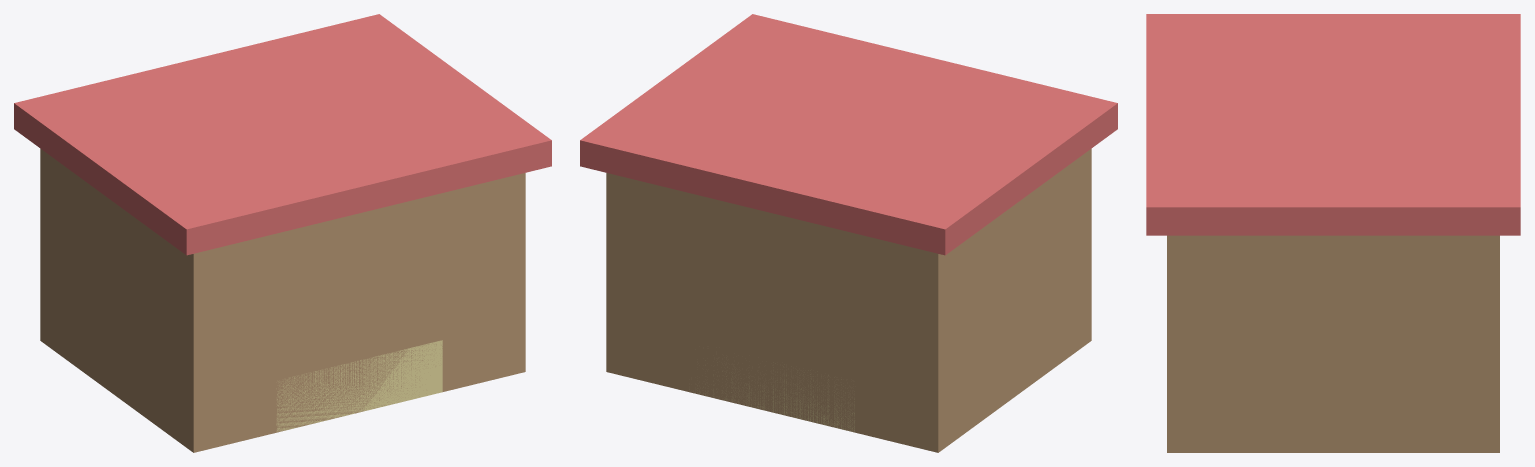
Rendered from Prop_Live_AMF_GoatShelter_V6.glb.
The picture shows the model from 3 angles, left to right: view 1: azimuth 30°, elevation 25°; view 2: azimuth 150°, elevation 25°; view 3: azimuth 270°, elevation 25°; orthographic projection. The views are drawn at different scales.
Visible parts, largest first — view 1: Prop_Live_AMF_GoatShelter_V6; view 2: Prop_Live_AMF_GoatShelter_V6; view 3: Prop_Live_AMF_GoatShelter_V6.
Boxes of the visible parts, <box> form: Prop_Live_AMF_GoatShelter_V6: <box>14,14,551,452</box>; Prop_Live_AMF_GoatShelter_V6: <box>580,14,1117,452</box>; Prop_Live_AMF_GoatShelter_V6: <box>1146,14,1520,452</box>.
Size of the model in its own units: 2.2 by 1.35 by 1.8.
